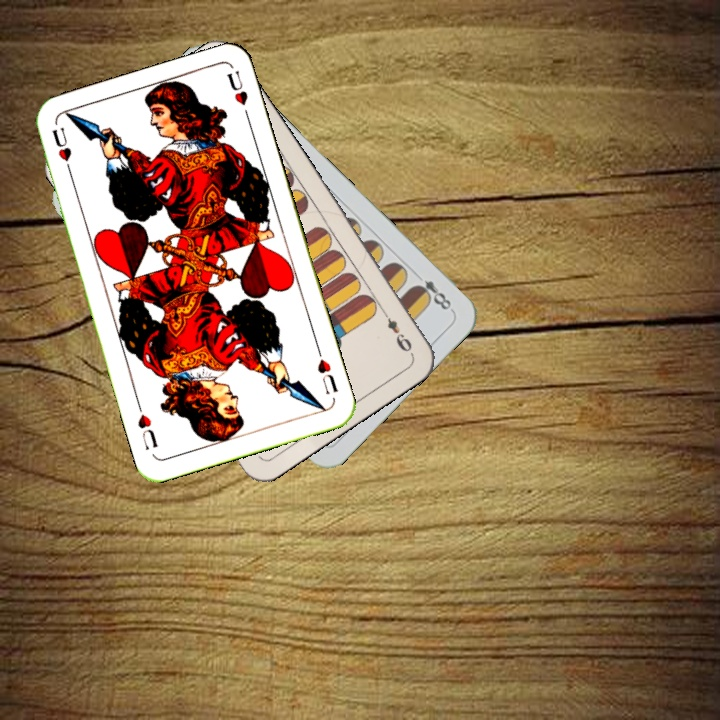E8: (409, 267, 456, 314)
E9: (377, 304, 415, 357)
HU: (48, 123, 75, 179), (313, 344, 341, 397)
